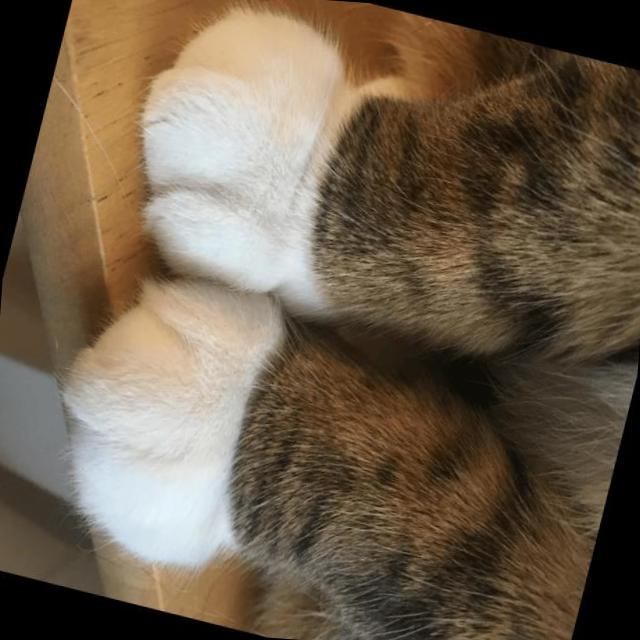Healthy skin: (348, 52, 640, 347), (289, 410, 589, 640), (86, 305, 298, 573), (182, 45, 332, 218)
